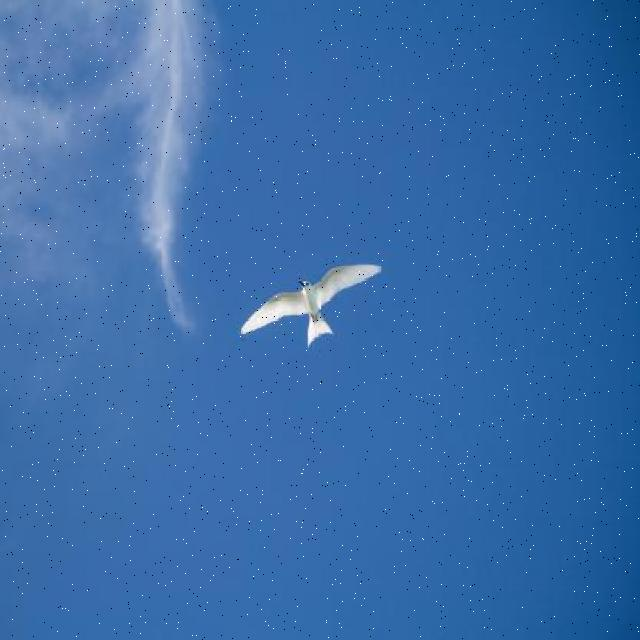bird: (240, 263, 382, 348)
